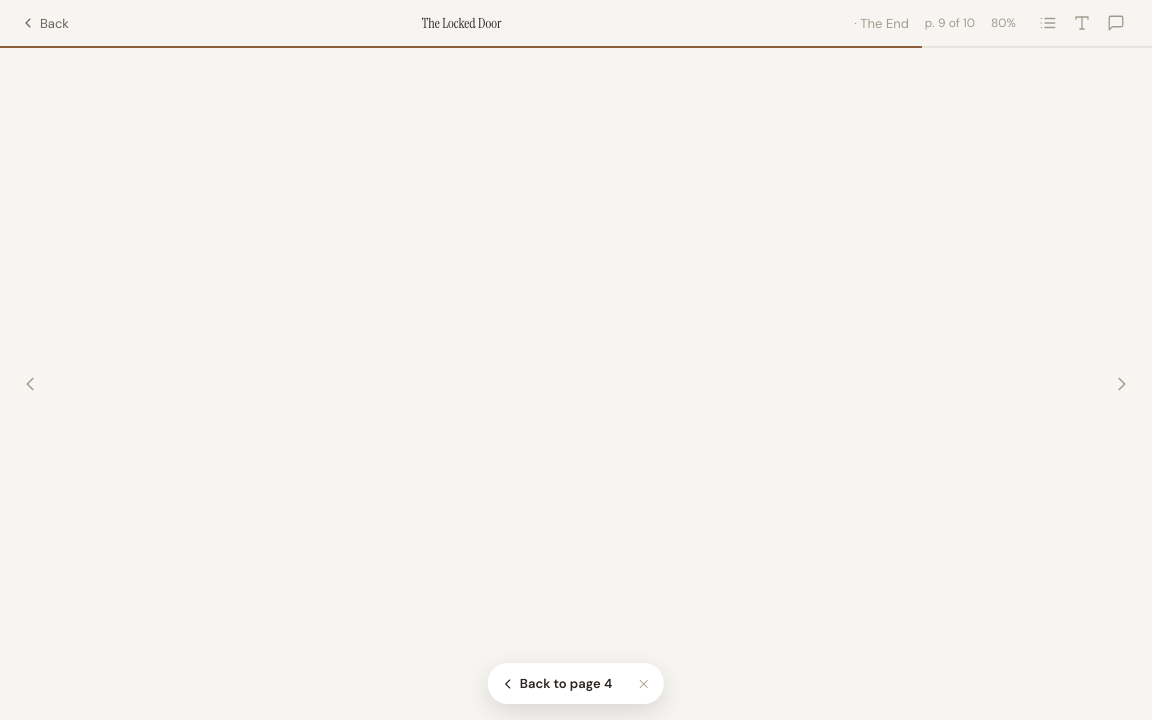
Test: ReaderScreen › coming back after following a link inside the book › drops the way back when a chapter is chosen from the contents
This screenshot has width=1152, height=720.
Expected: the button "Back to page 4" is shown, [492,667,626,700]
Click the button named "Contents" at coordinates (1048, 23), box [1032,7,1064,39]
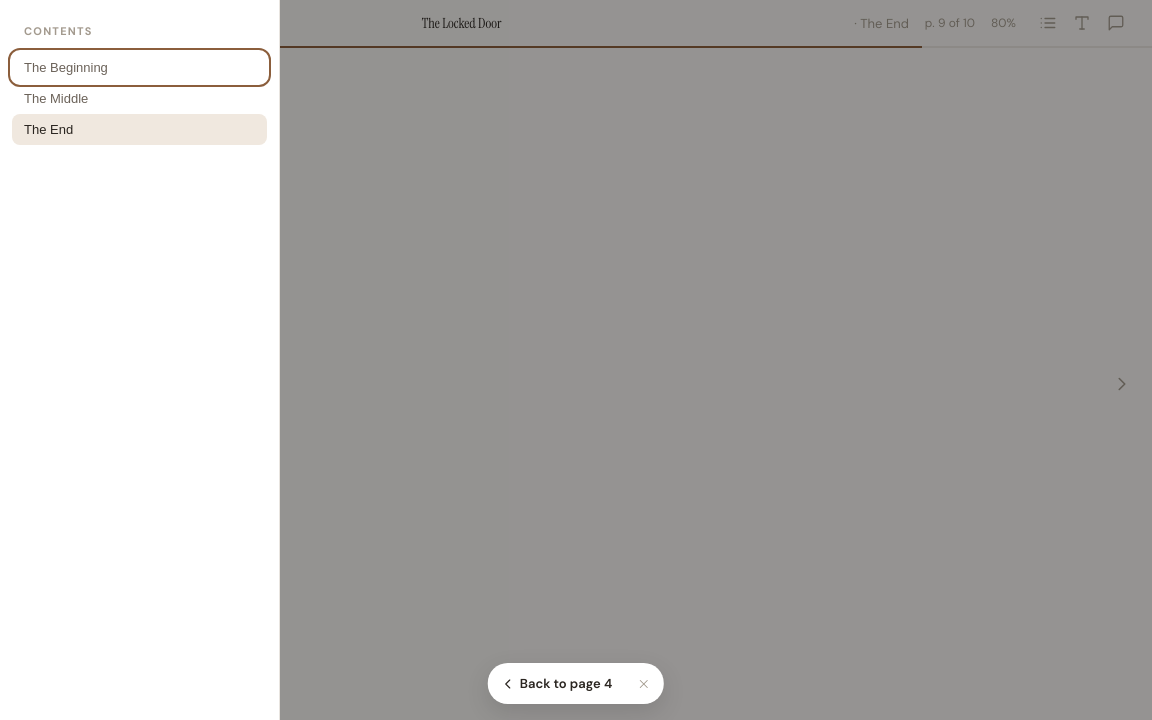
Click the button "The End" at coordinates (140, 130), box [12,114,267,145]
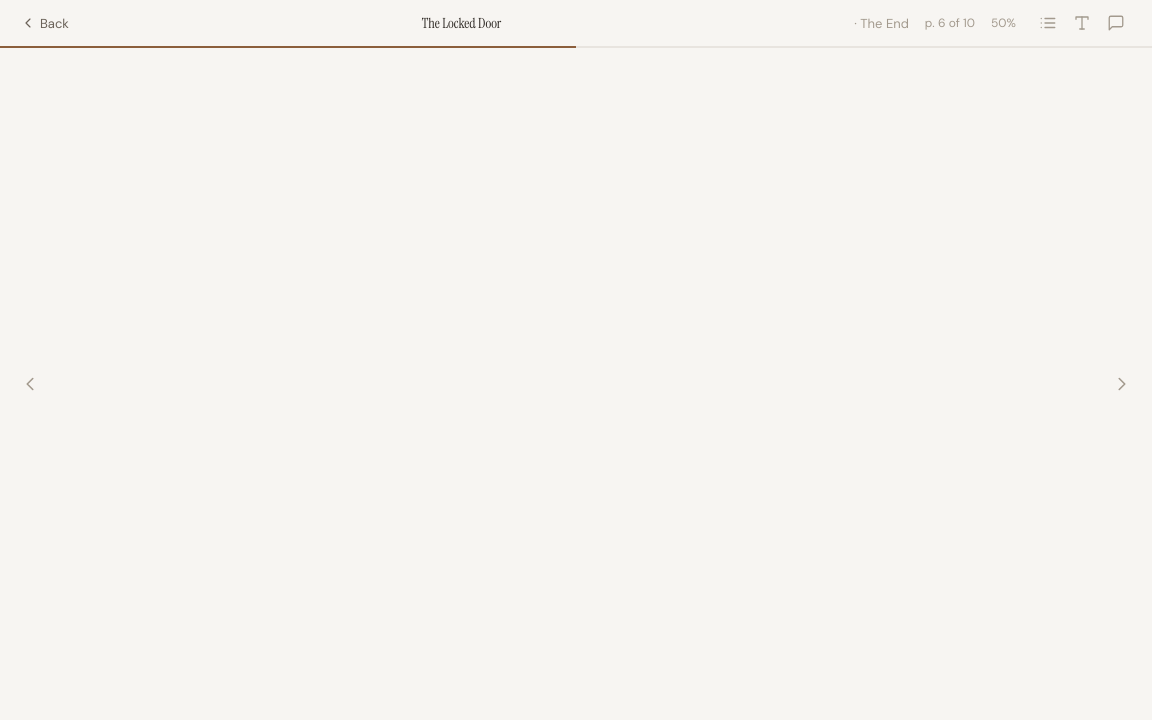
Expected: the button "Back to" is gone
